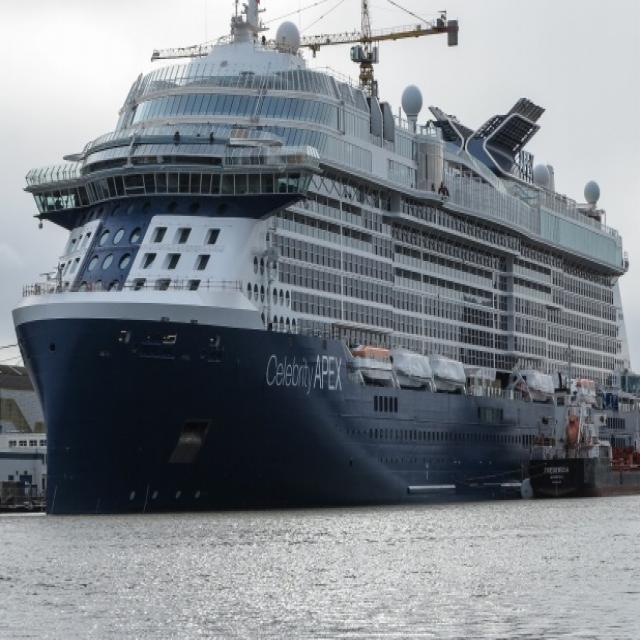cruises: (7, 1, 640, 526)
